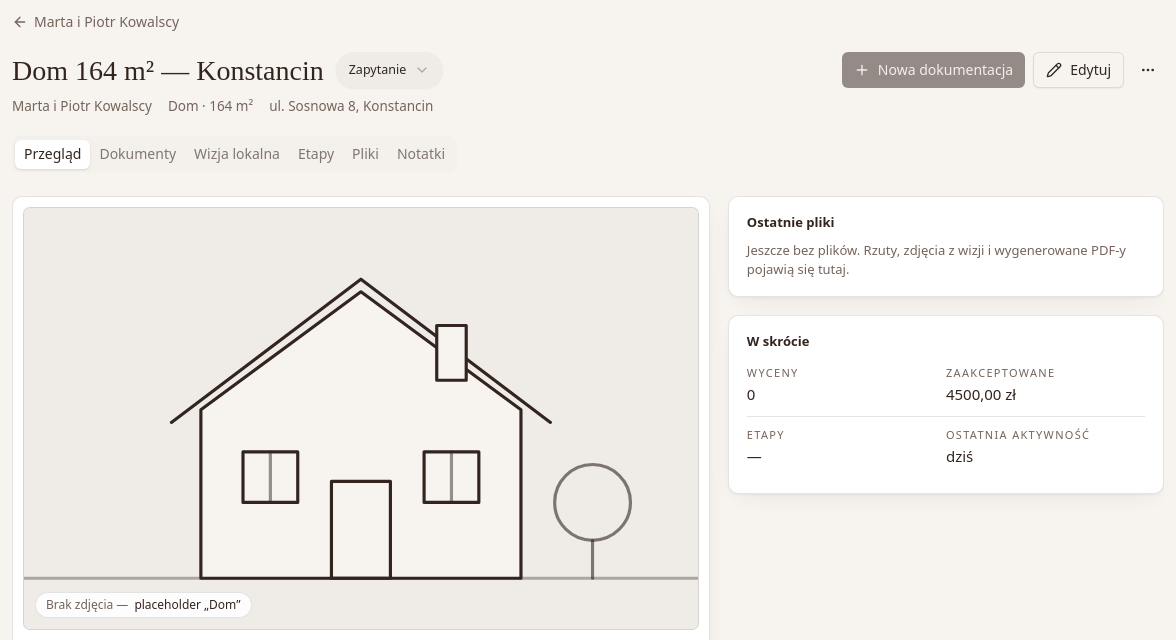
Test: ProjectPage › pusty projekt pokazuje pusty stan wycen z akcja
Click the tab "Dokumenty": (138, 154) [90, 140, 185, 169]
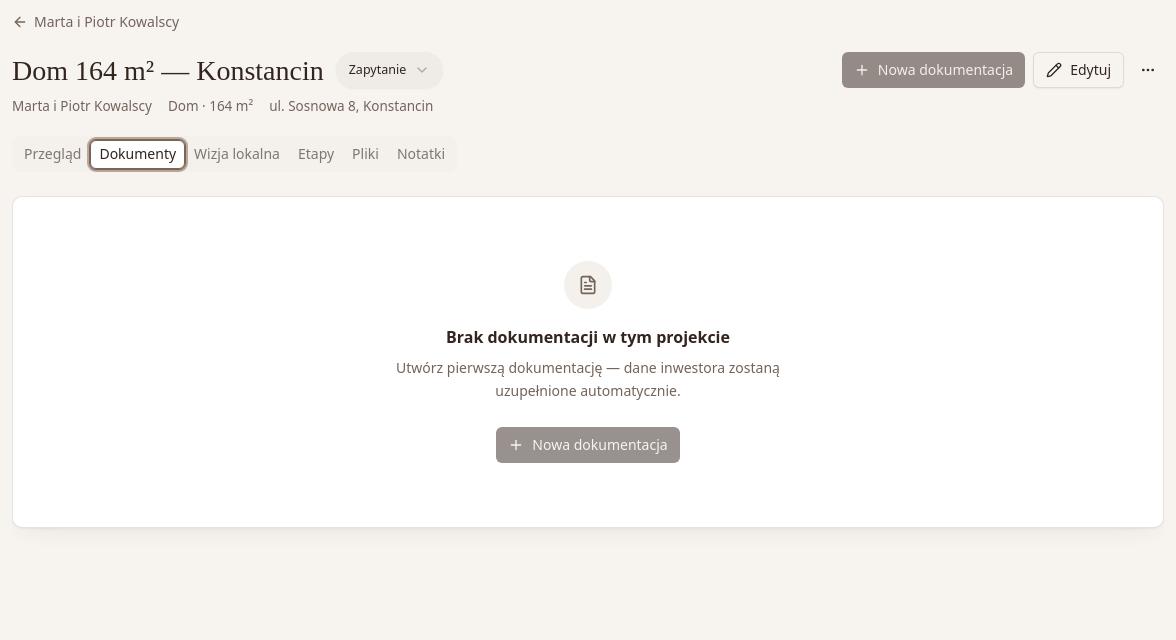
Result: the heading "Brak dokumentacji w tym projekcie" is shown at [446, 325, 730, 349]
